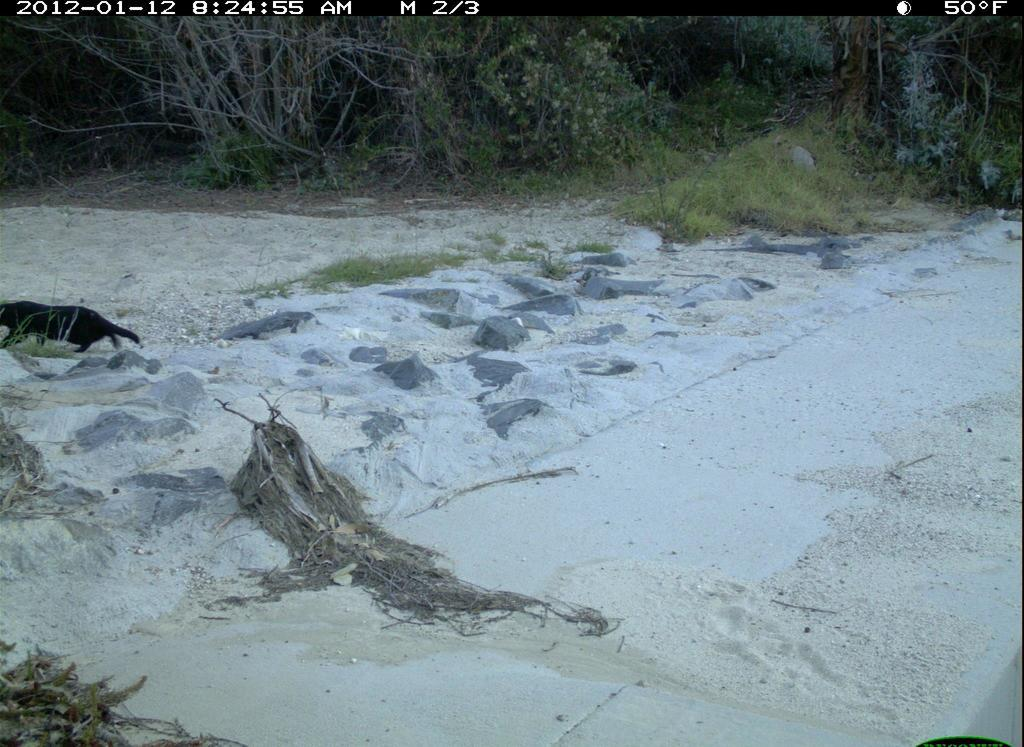cat: (3, 292, 152, 372)
